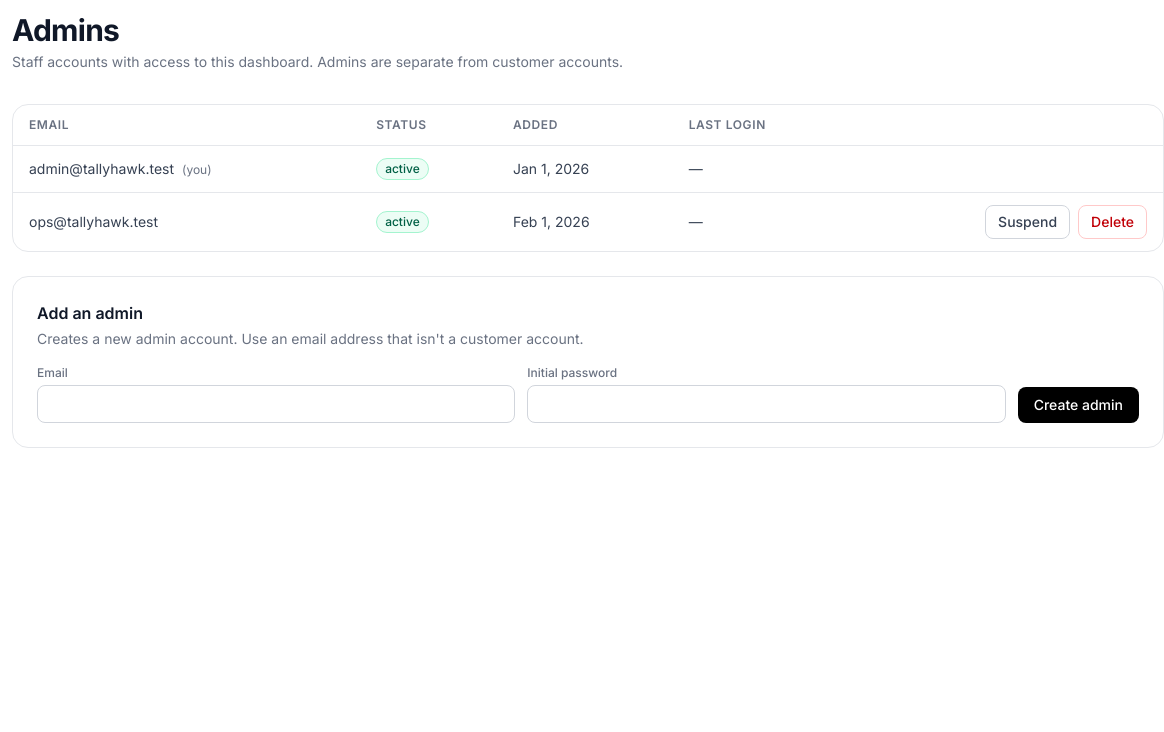
Test case: admins › shows the server's refusal
This screenshot has width=1164, height=732.
Click the button "Delete": (1113, 222) [1078,205,1147,239]
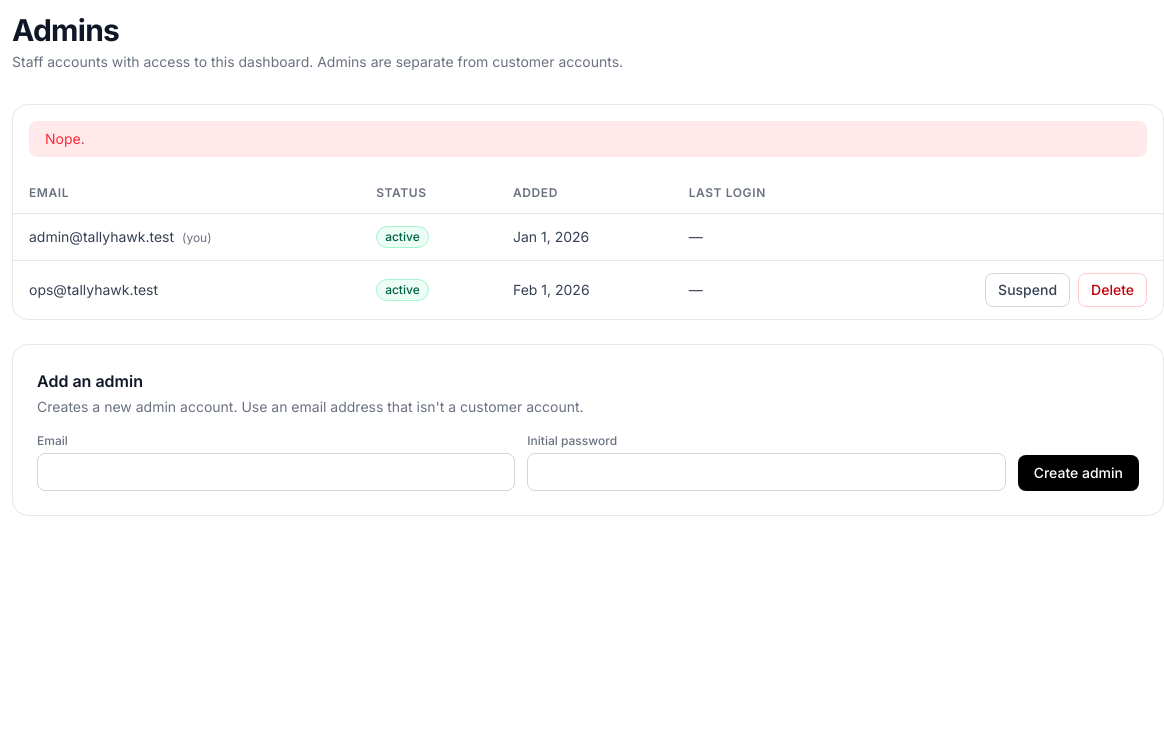
Check: the message reads "Nope.", box [45,130,85,147]
